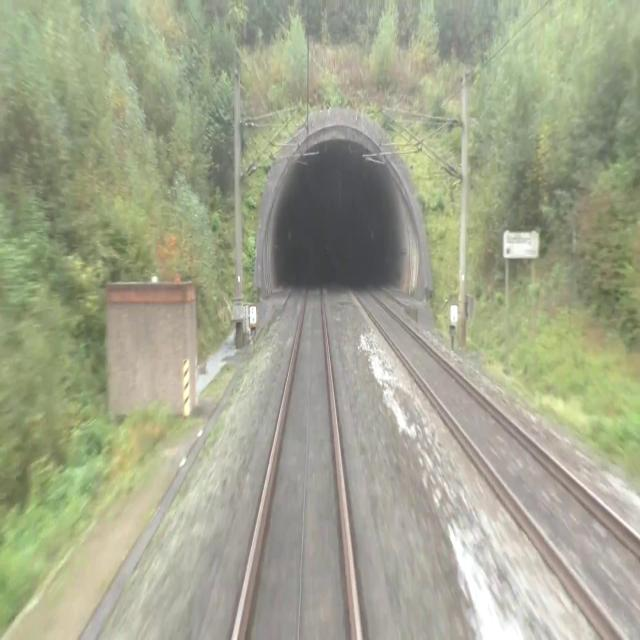rail-track: (336, 257, 640, 639), (236, 267, 356, 639)
